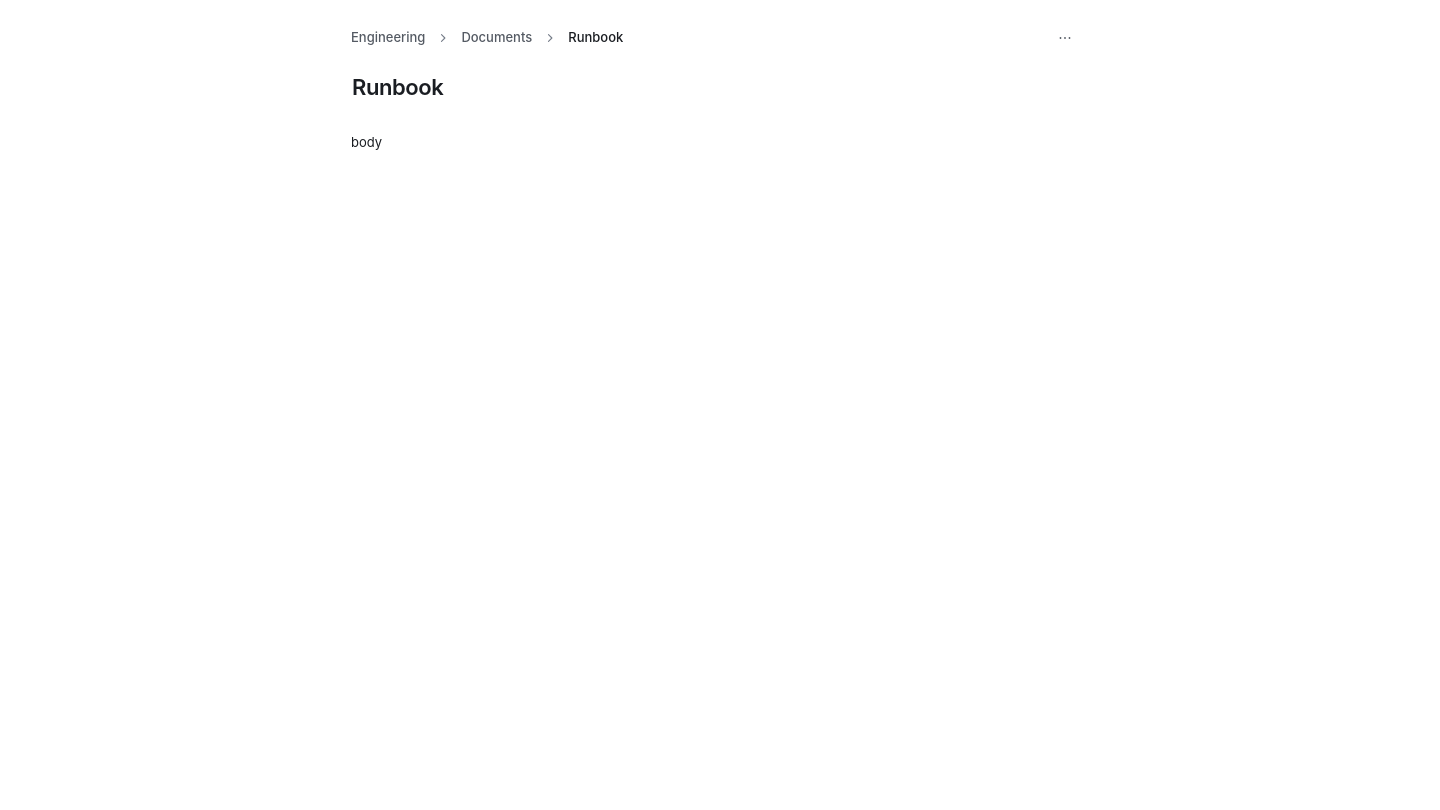
DocumentDetail reading › asks before deleting, and names what goes
Click the button named "Document options": (1065, 38) [1051,24,1079,52]
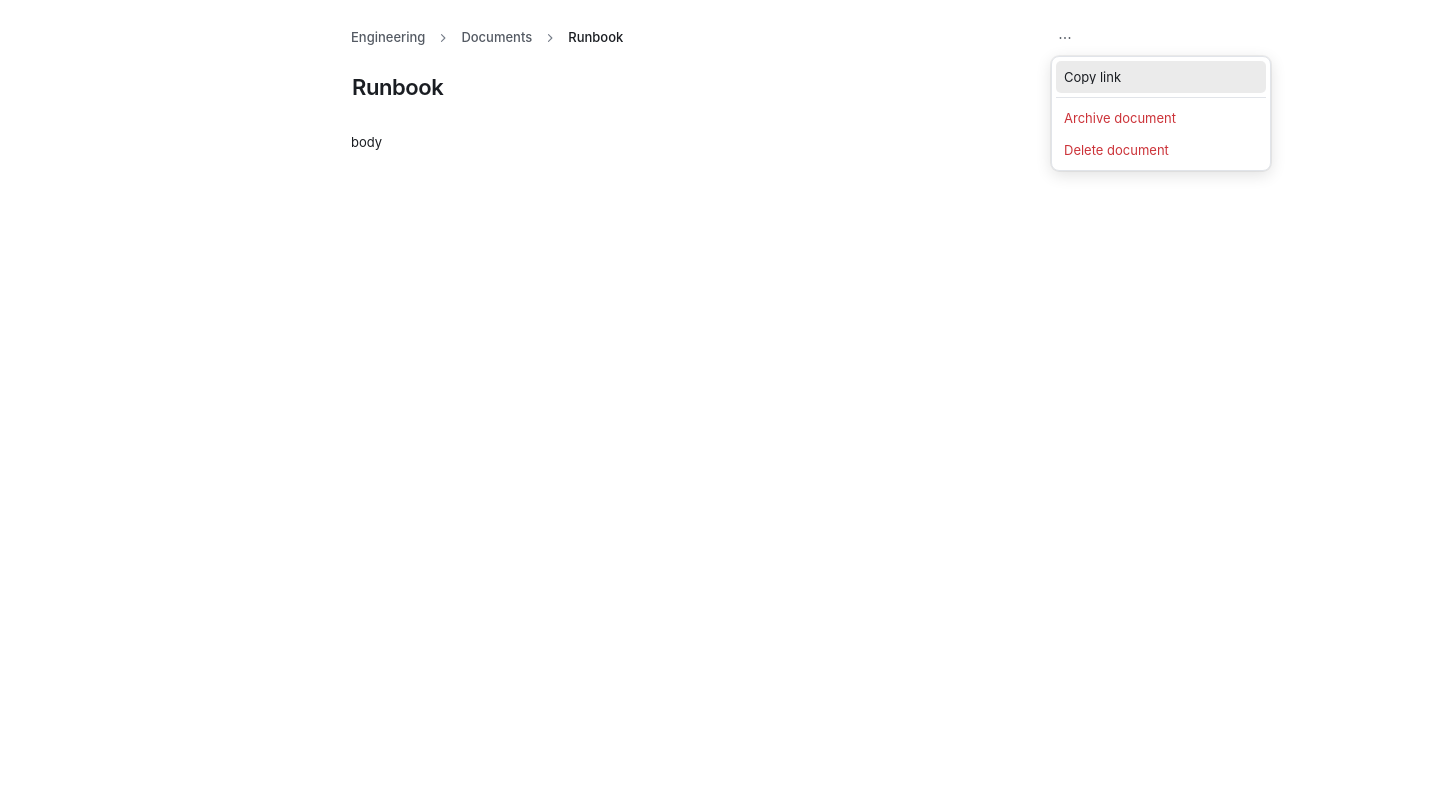
Click the menu item "Delete document": (1116, 150) [1064,142,1169,158]
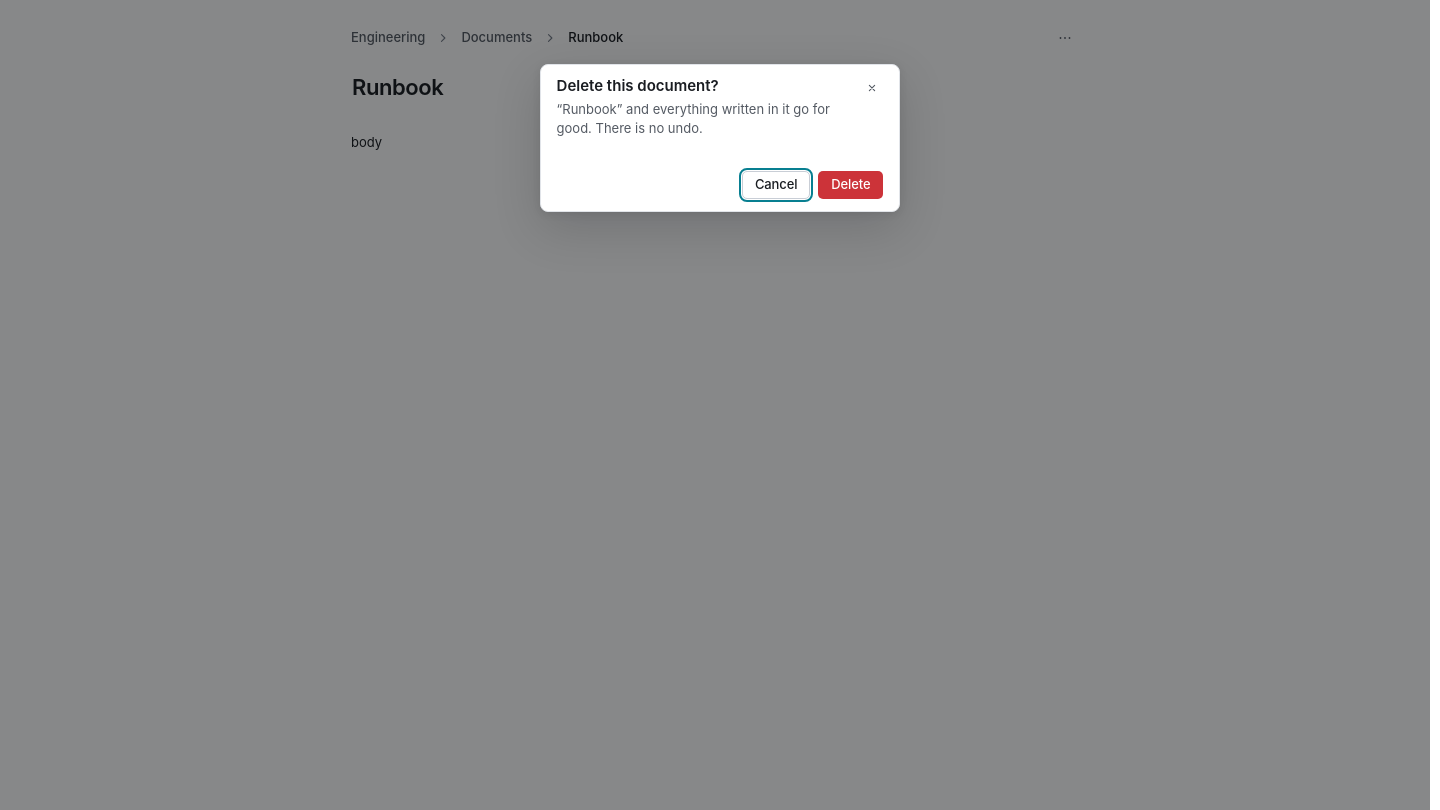
expect the text "go for good" is shown: met, box [557,101,830,136]
